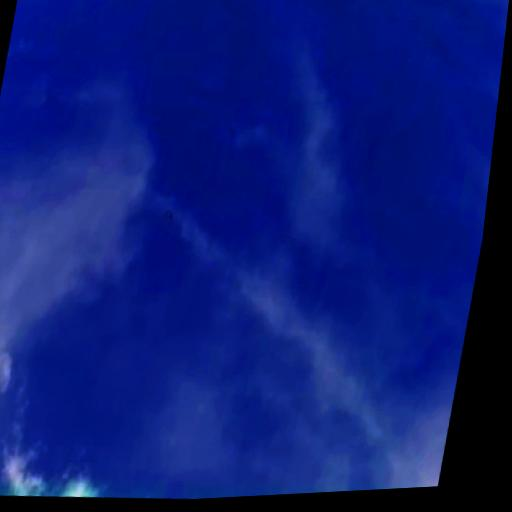drones: (158, 206, 178, 231)
